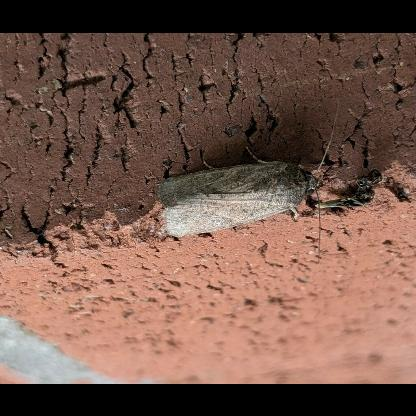Fall Armyworm Moth: (156, 102, 340, 264)
